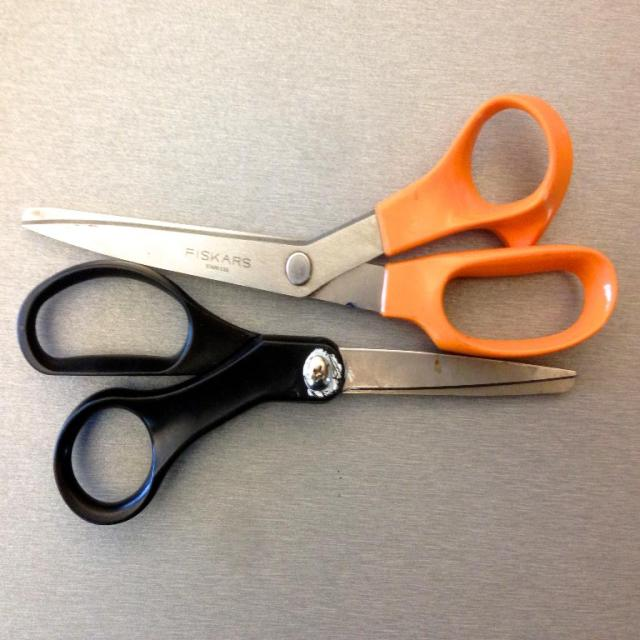scissors: (19, 93, 618, 359), (15, 257, 578, 525)
